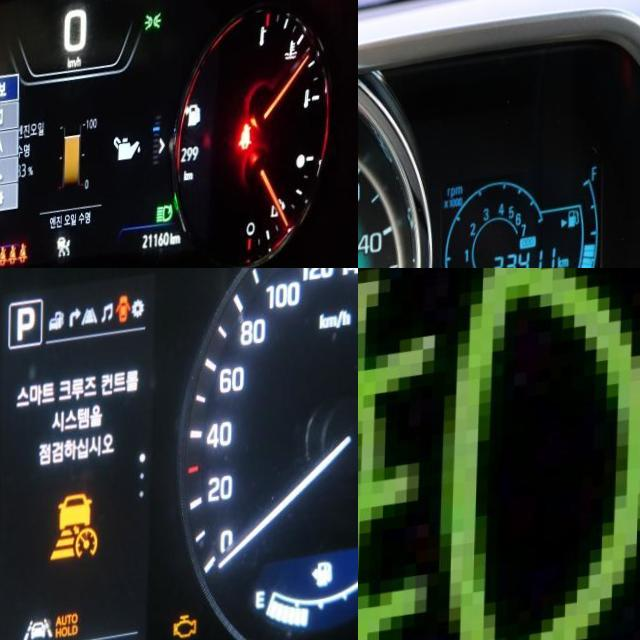Doors: (115, 304, 131, 336)
FrontFogLight: (358, 268, 640, 640)
LaneCenteringOff: (23, 627, 52, 640)
SideLamp: (144, 25, 161, 44)
